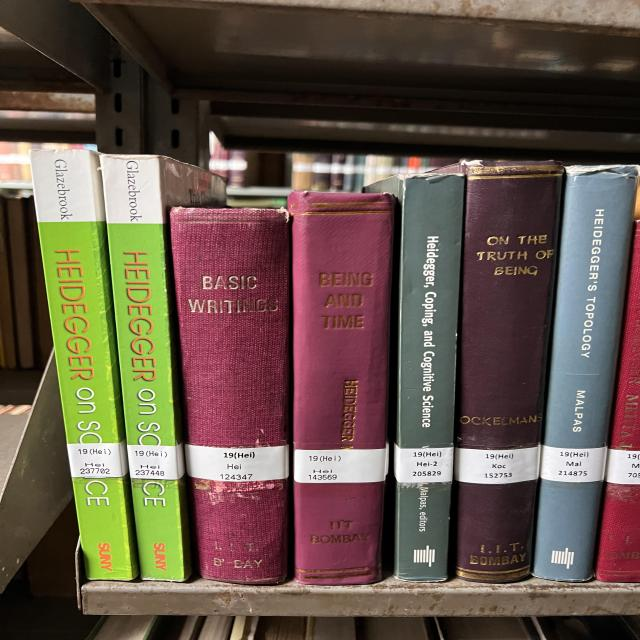Book: (100, 155, 227, 581), (437, 160, 563, 582), (30, 150, 137, 580), (170, 208, 290, 584), (533, 165, 638, 581), (288, 191, 395, 585), (367, 174, 465, 581), (597, 221, 640, 582)
Label: (185, 444, 288, 482), (293, 448, 388, 484), (455, 445, 540, 484), (540, 445, 607, 482), (67, 441, 128, 478), (395, 445, 453, 482), (127, 444, 185, 480), (605, 449, 640, 485)
